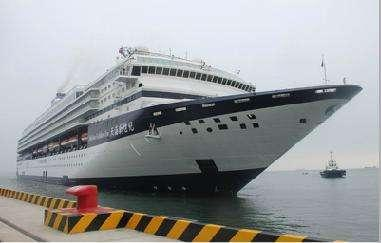youlun: (16, 37, 363, 187)
